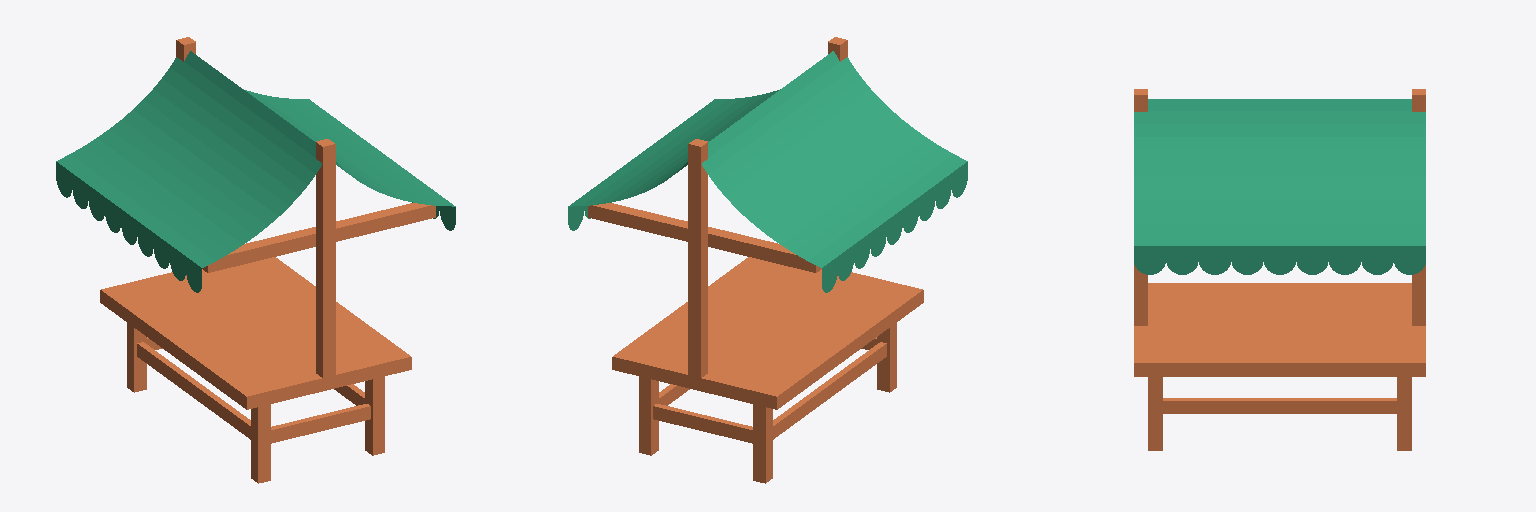
3 renders of one model, left to right at view 1: azimuth 30°, elevation 25°; view 2: azimuth 150°, elevation 25°; view 3: azimuth 270°, elevation 25°, orthographic.
Parts seen in each view (by area): view 1: stallGreen; view 2: stallGreen; view 3: stallGreen.
Part boxes in pixels (left/top/right/bottom): stallGreen: left=56, top=37, right=455, bottom=483; stallGreen: left=568, top=37, right=967, bottom=483; stallGreen: left=1134, top=89, right=1425, bottom=450.
Size of the model in its own units: 0.8084 by 1 by 0.8084.